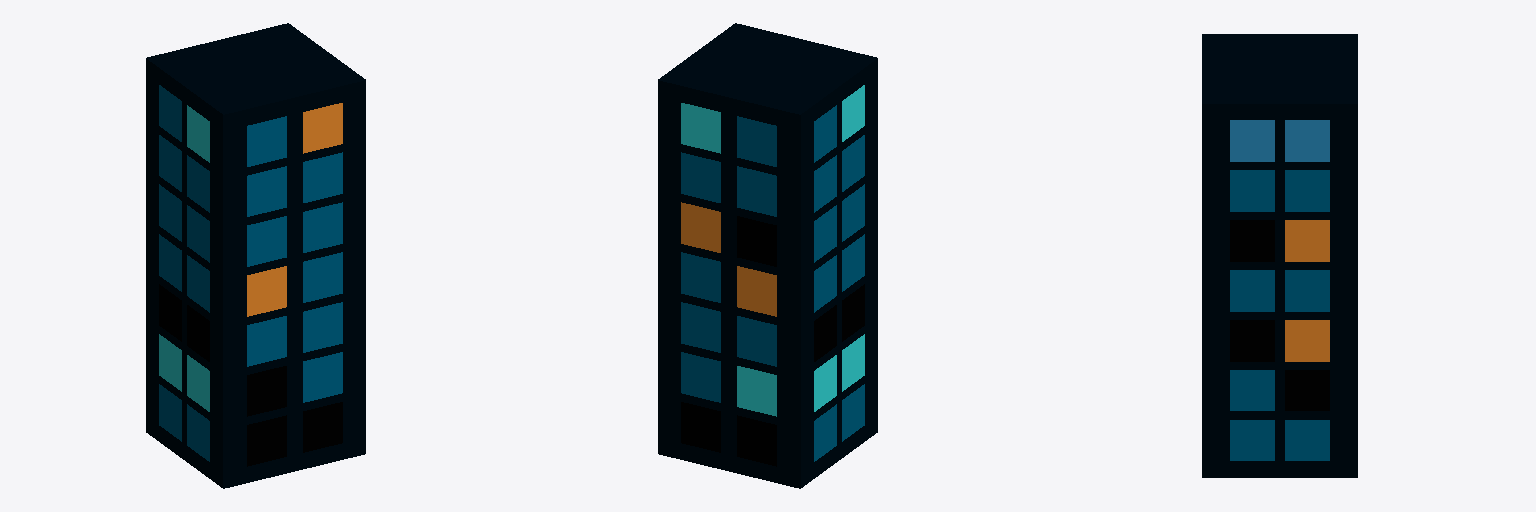
3 views of the same model, side by side, from view 1: azimuth 30°, elevation 25°; view 2: azimuth 150°, elevation 25°; view 3: azimuth 270°, elevation 25° (orthographic).
Bounding box in the file's own units: 18 × 45 × 17.
1 materials, 1 textured.